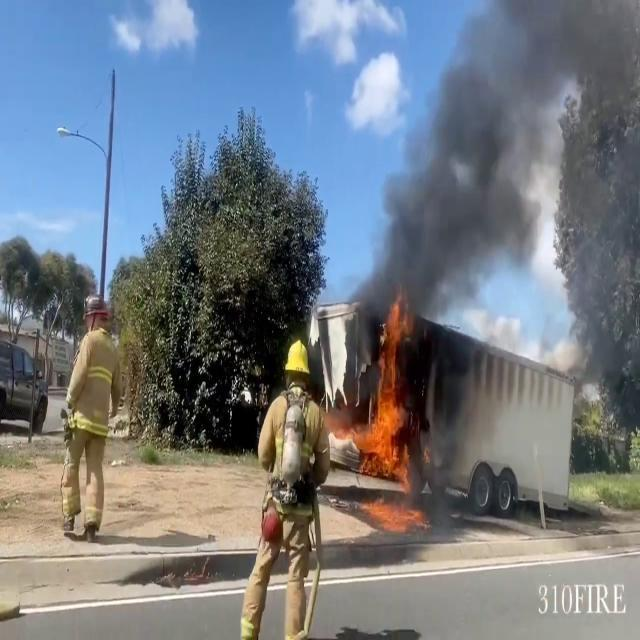Fire: (342, 299, 420, 499)
Smoke: (358, 0, 640, 335)
